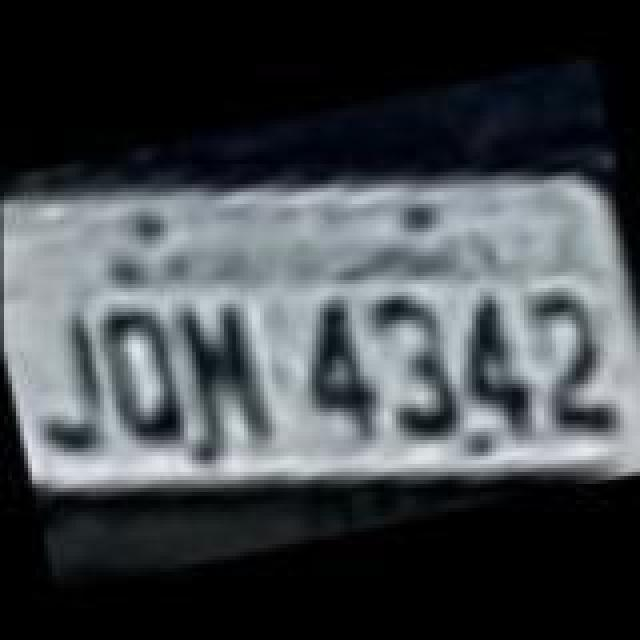2: (514, 274, 626, 446)
3: (360, 284, 468, 452)
4: (436, 280, 544, 456), (284, 286, 392, 454)
J: (16, 306, 120, 454)
N: (168, 290, 284, 454)
Q: (90, 294, 202, 450)
